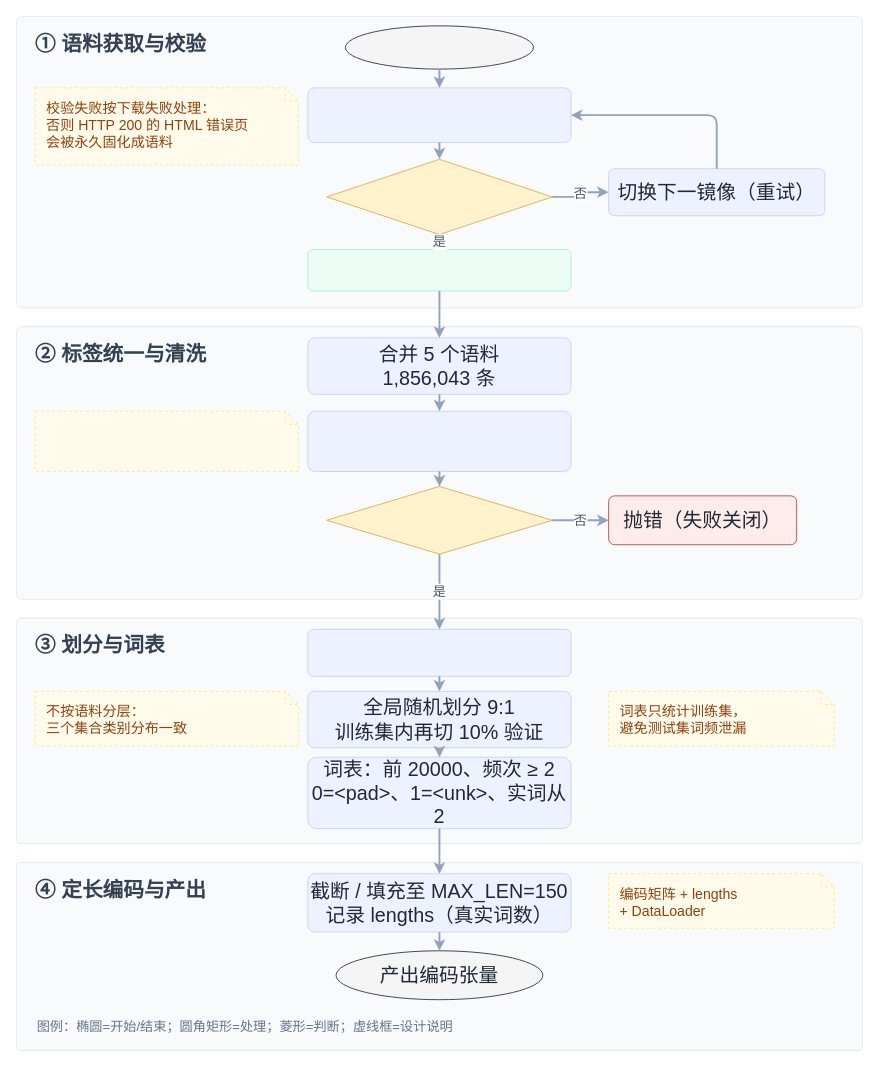
Some shapes in this 879 by 1067 pixel diagram are drawn without their labels. Each missing label, with the centre of its shape:
jieba 分词 + 去标点: the point at 439,652
中性样本直接丢弃： 宁可少要样本，不制造假标签: the point at 166,440
原子改名落盘: the point at 439,270
取值合法？: the point at 439,520
可解析且 样本数 > 0？: the point at 439,196
开始：5 个语料: the point at 439,47
按序选择镜像源 下载到临时文件: the point at 439,114
标签映射 4–5★=1、1–2★=0、3★丢弃: the point at 439,440
